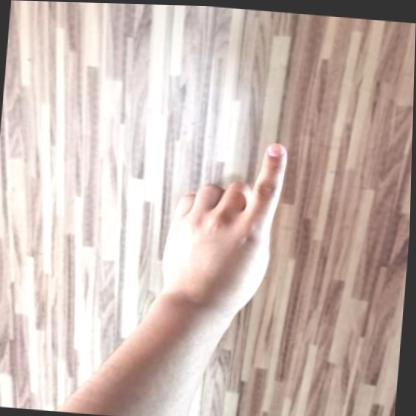T: (160, 129, 290, 315)
